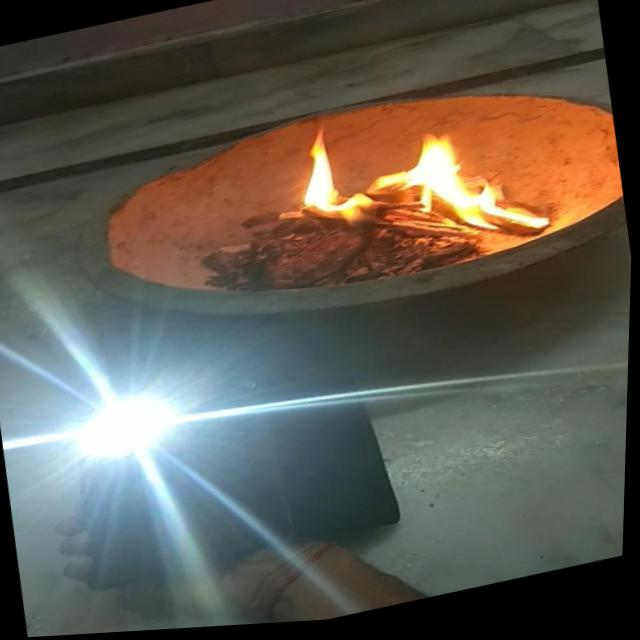fire: (278, 83, 562, 291)
